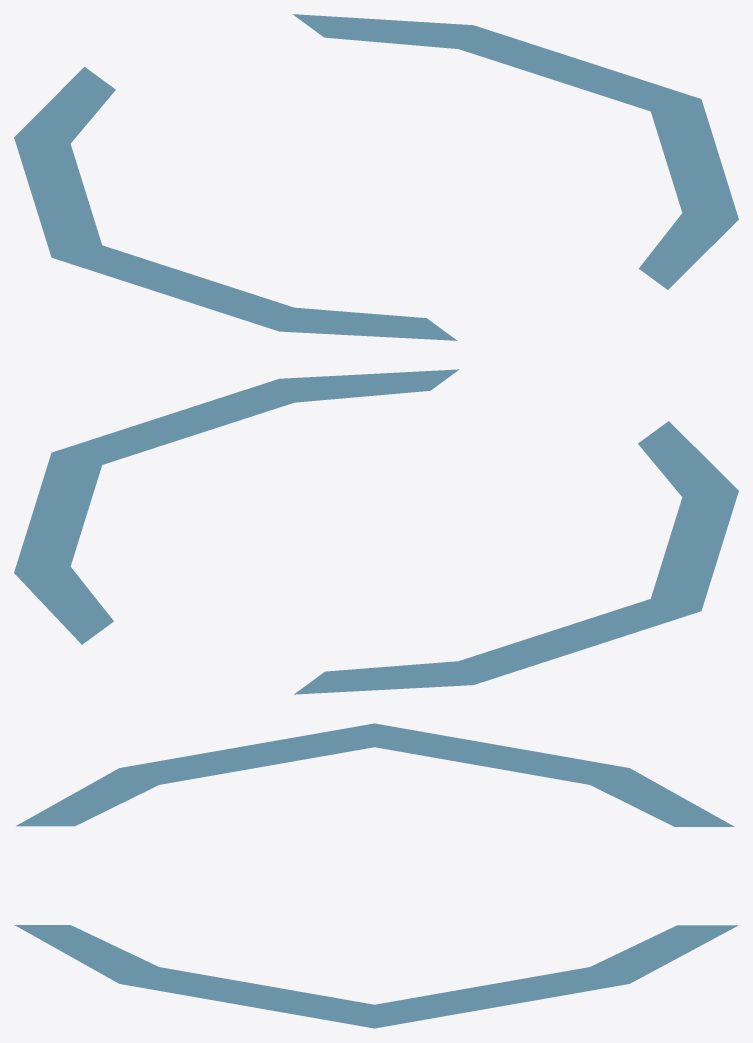
The model's file is entity430278.gltf.
3 renders of one model, top to bottom at view 1: azimuth 30°, elevation 25°; view 2: azimuth 150°, elevation 25°; view 3: azimuth 270°, elevation 25°, orthographic. The views are drawn at different scales.
Visible parts, largest first — view 1: node_polySurface631; view 2: node_polySurface631; view 3: node_polySurface631.
Boxes of the visible parts, box(x1,y1,x2,y2) form: node_polySurface631: box(14, 14, 738, 340); node_polySurface631: box(14, 369, 738, 694); node_polySurface631: box(15, 723, 738, 1028).
Size of the model in its own units: 7.15 by 0 by 7.18.
